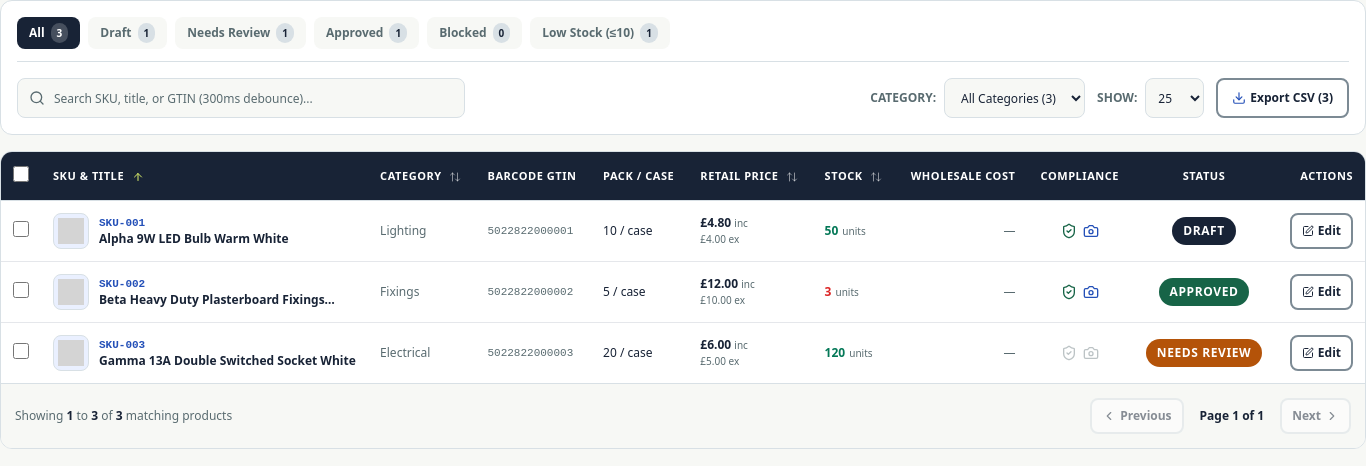
ToolCart Retail Admin Portal Hardening & Verification Suite › Feature 5 & 6: ProductTable Headless Primitives, Sorting & Bulk Actions › filters products by debounced search input
Type "Fixings" into the field with placeholder "Search SKU, title, or GTIN (300ms debounce)..." at (241, 98), box [17,78,465,118]
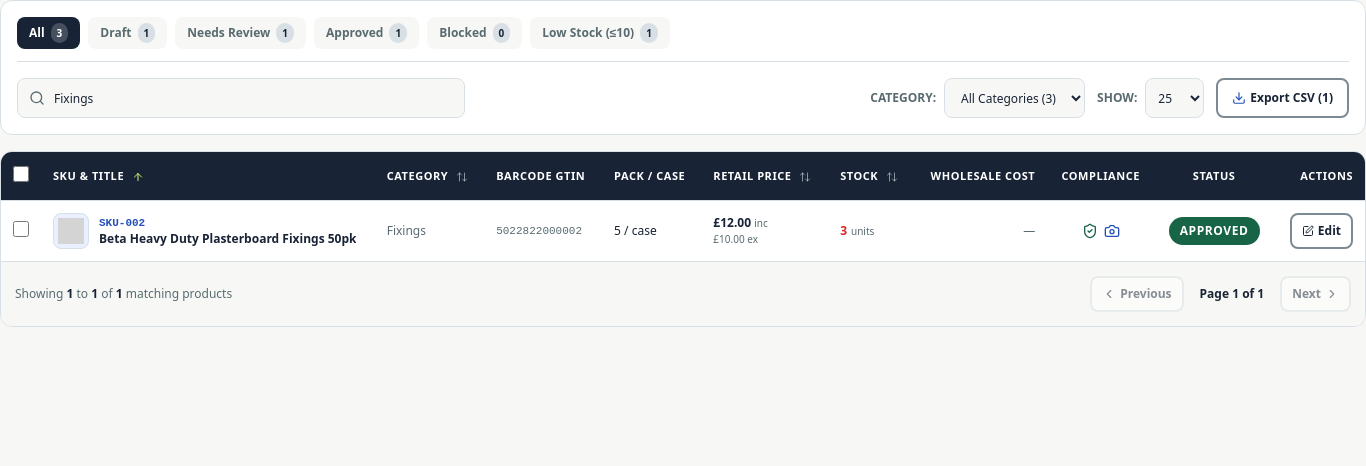
Expected: the text "Beta Heavy Duty Plasterboard Fixings 50pk" is shown, [99,231,356,247]
Now the text "Alpha 9W LED Bulb Warm White" is gone
